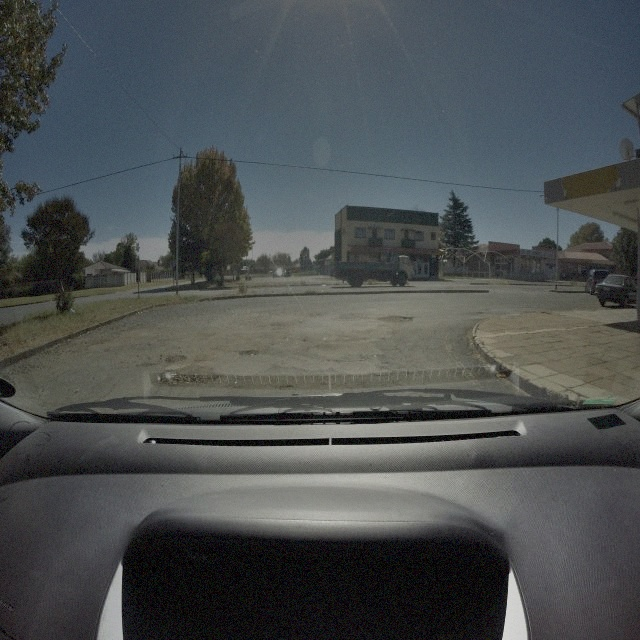pothole: (157, 370, 223, 388), (376, 312, 414, 326), (165, 353, 189, 363), (239, 346, 259, 358)
